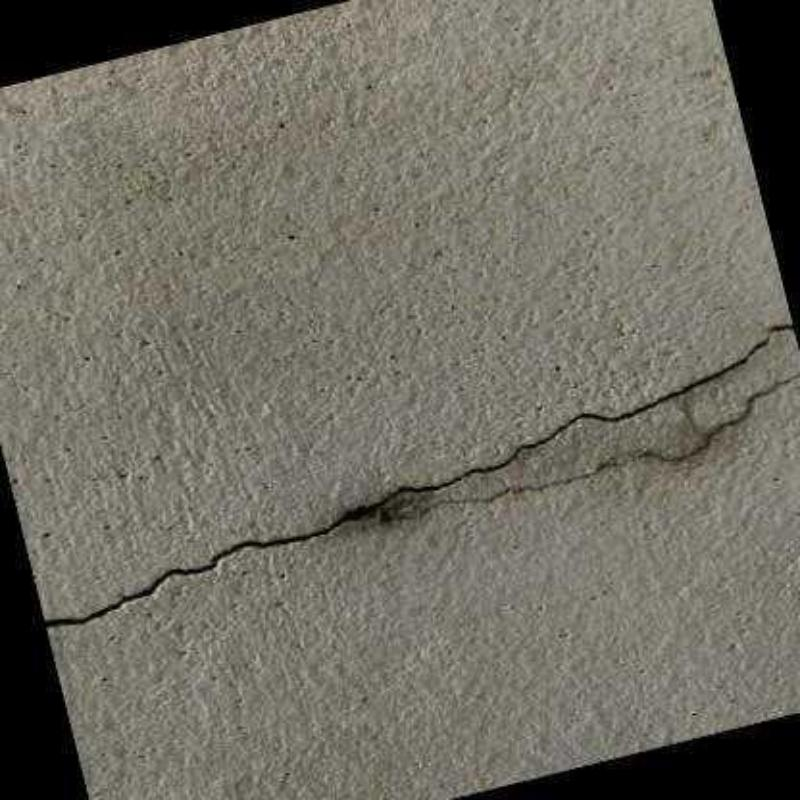pothole: (43, 326, 795, 628), (412, 373, 798, 519)
